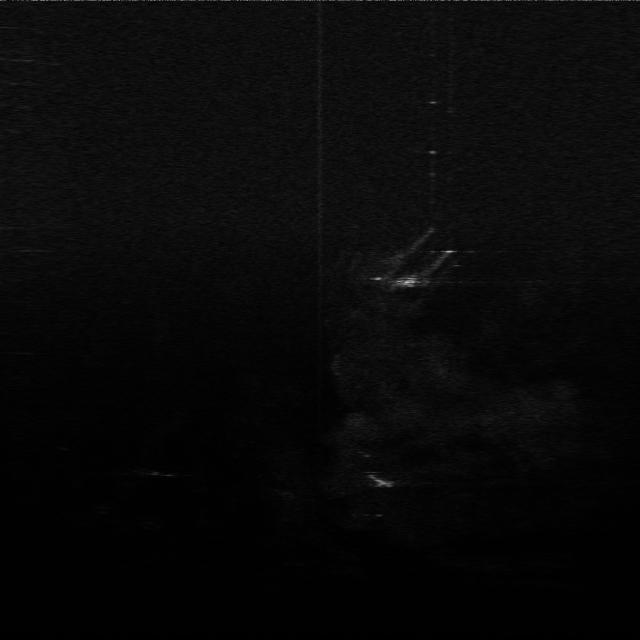rov: (396, 272, 426, 290)
